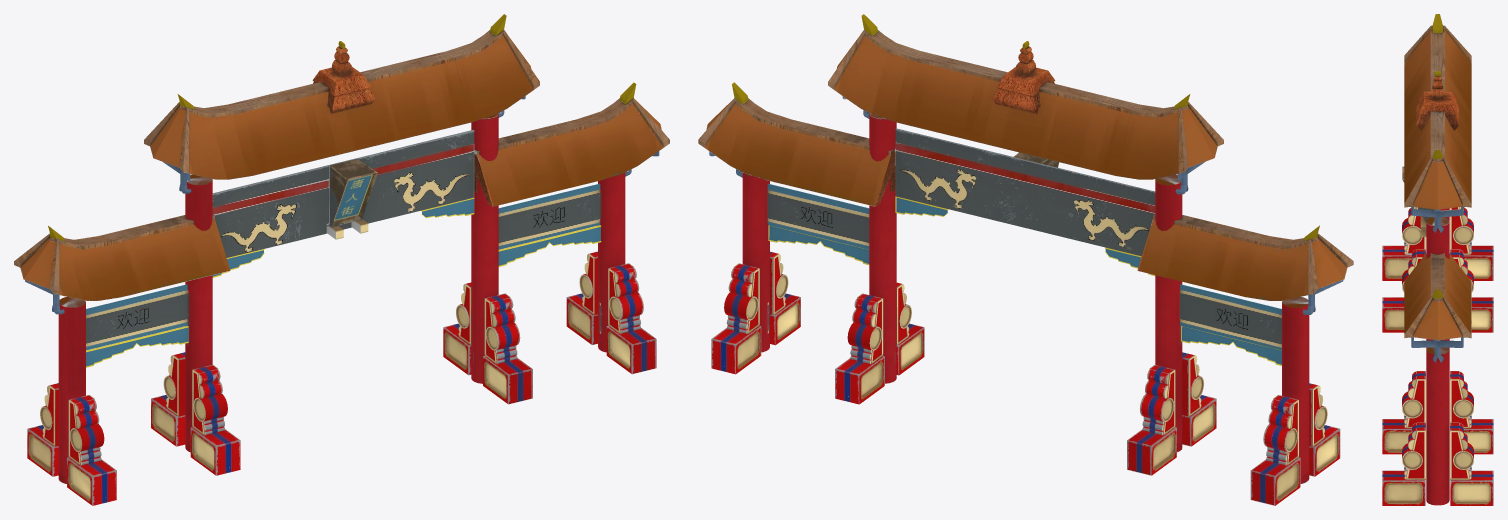
The model's file is cyberpunk_torii_gate.glb.
The picture shows the model from 3 angles, left to right: view 1: azimuth 30°, elevation 25°; view 2: azimuth 150°, elevation 25°; view 3: azimuth 270°, elevation 25°; orthographic projection. The views are drawn at different scales.
Visible parts, largest first — view 1: Torii_Gate_Torii_Gate_Material_0; view 2: Torii_Gate_Torii_Gate_Material_0; view 3: Torii_Gate_Torii_Gate_Material_0.
Part boxes in pixels (x1,y1,x2,y2): Torii_Gate_Torii_Gate_Material_0: (14,14,669,505); Torii_Gate_Torii_Gate_Material_0: (698,14,1353,505); Torii_Gate_Torii_Gate_Material_0: (1382,14,1493,505).
Size of the model in its own units: 225932 by 125688 by 40089.
1 material, 1 textured.
